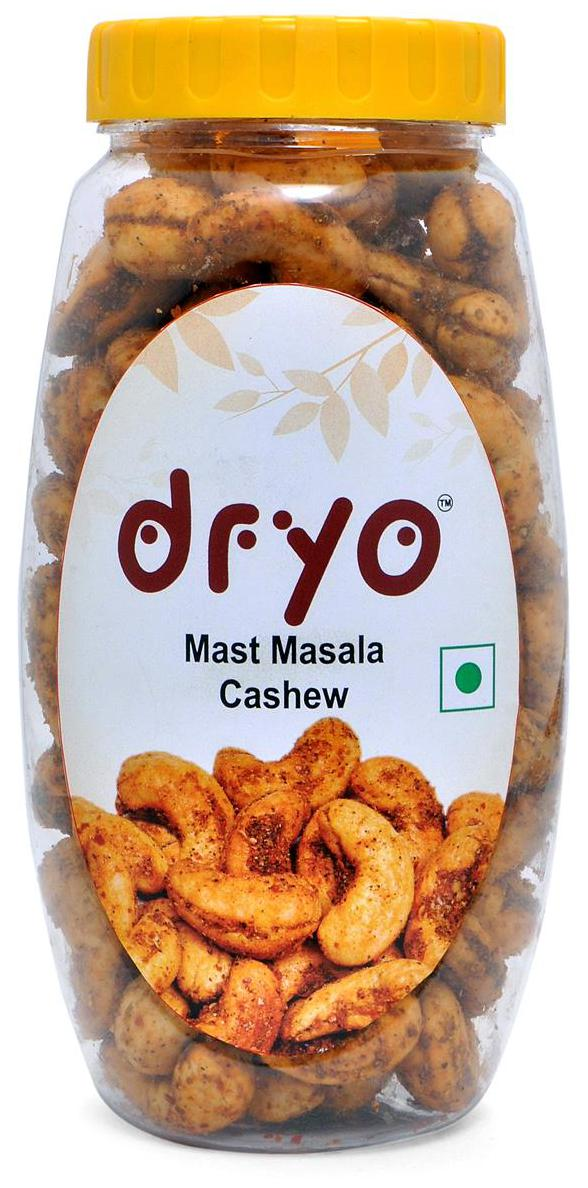JAR: (11, 10, 577, 1159)
